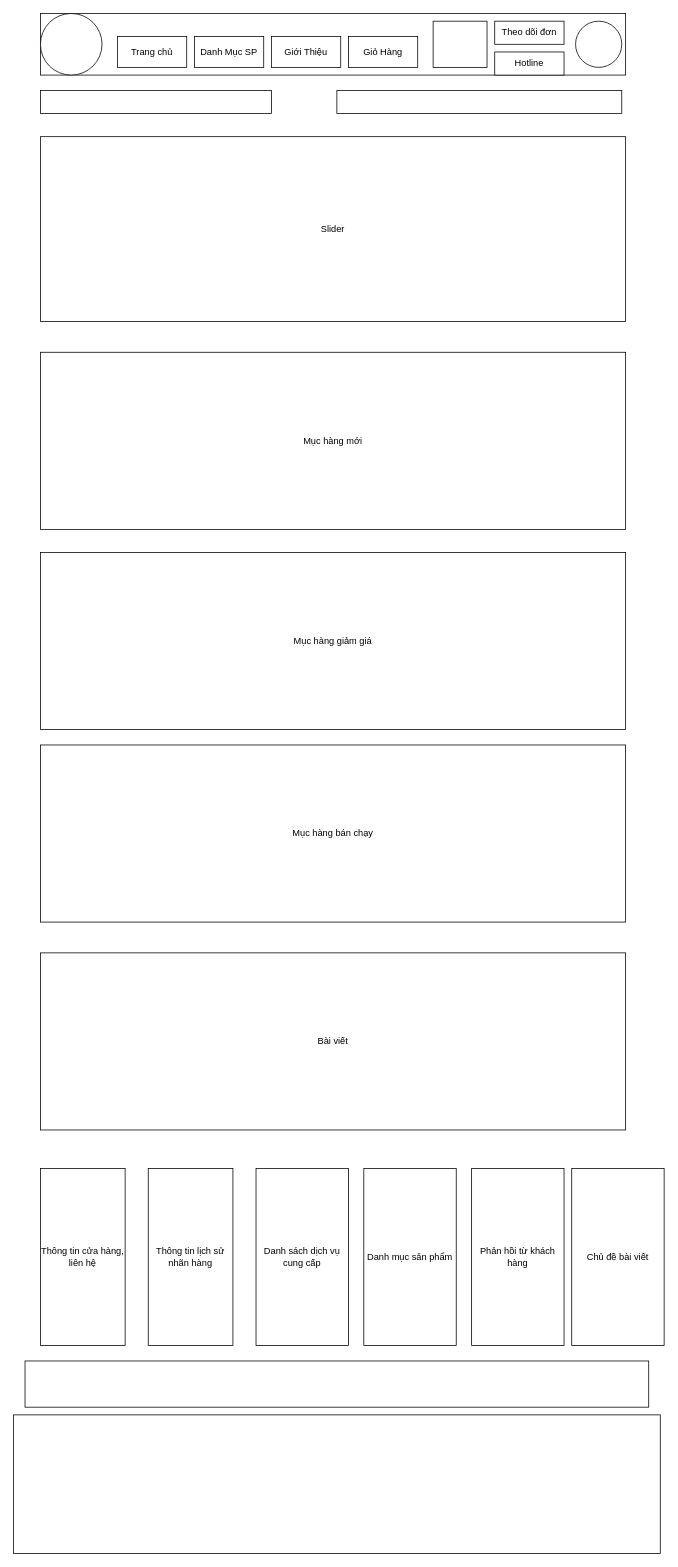
Image size: 678x1567. Some labels were removed from this diagram. The centre of each missing label's shape, as x and y in pixels:
"App QR" goes at [459,43].
"Brand" goes at [71,44].
"Danh sách danh mục sản phẩm" goes at [155,102].
"Footer" goes at [336,1483].
"Social Link" goes at [336,1383].
"Tài Khoản" goes at [598,43].
"Tìm Kiếm" goes at [479,102].
